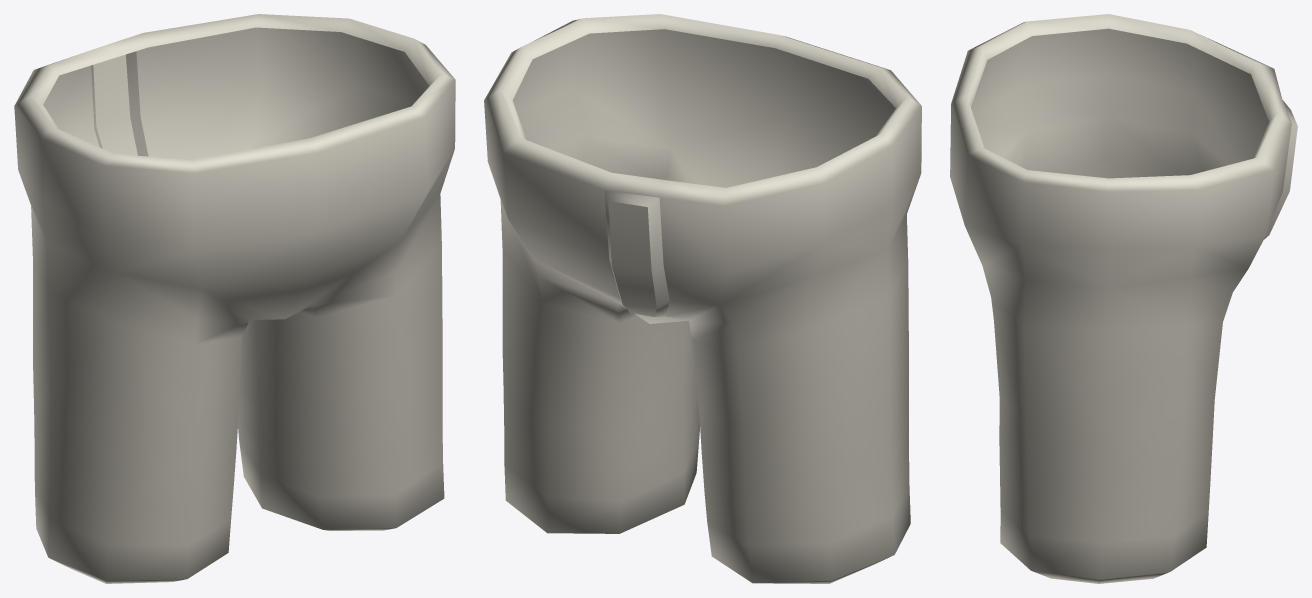
Rendered from Bottom_12.fbx.
The picture shows the model from 3 angles, left to right: view 1: azimuth 30°, elevation 25°; view 2: azimuth 150°, elevation 25°; view 3: azimuth 270°, elevation 25°; orthographic projection. The views are drawn at different scales.
Parts seen in each view (by area): view 1: Bottom_12; view 2: Bottom_12; view 3: Bottom_12.
Part boxes in pixels (bbox=[...]): Bottom_12: bbox=[14, 14, 455, 583]; Bottom_12: bbox=[484, 14, 921, 583]; Bottom_12: bbox=[950, 14, 1297, 583].
Size of the model in its own units: 37.99 by 42.06 by 31.97.
